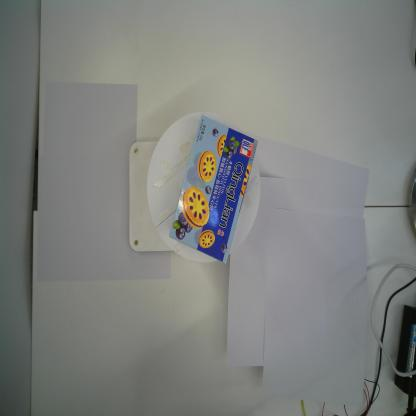Dessert: (168, 114, 259, 264)
